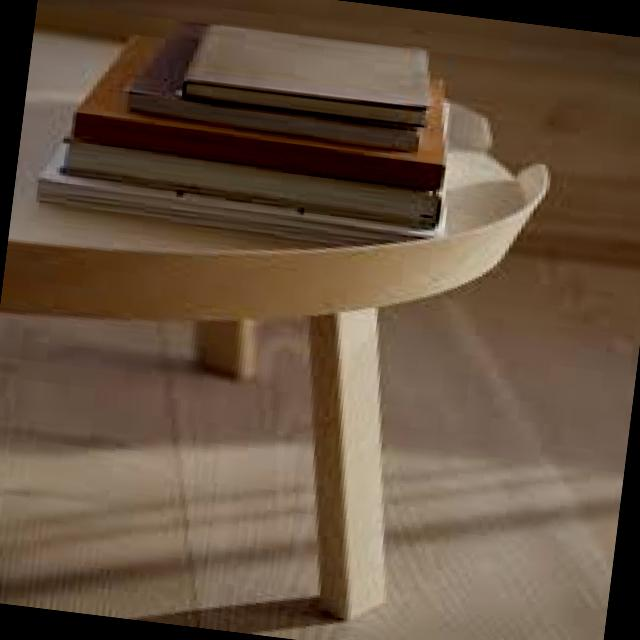obstacle: (24, 0, 569, 635)
